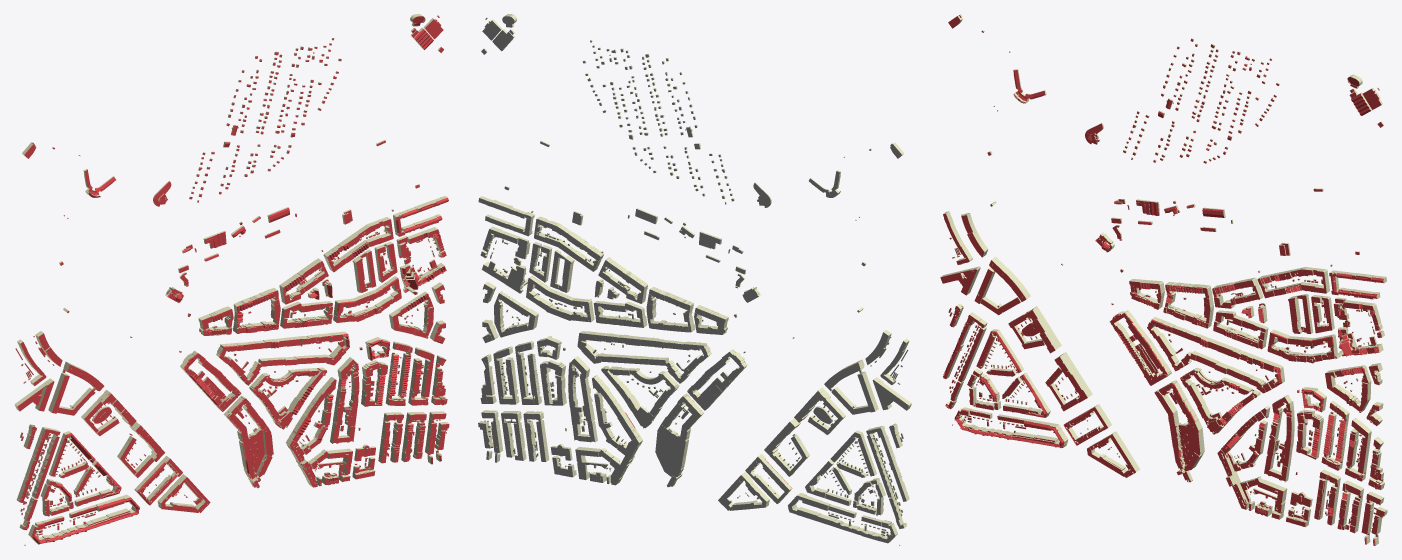
The picture shows the model from 3 angles, left to right: view 1: azimuth 30°, elevation 25°; view 2: azimuth 150°, elevation 25°; view 3: azimuth 330°, elevation 25°; orthographic projection. The views are drawn at different scales.
Visible parts, largest first — view 1: NL.IMBAG.Pand.0599100000702528-722, NL.IMBAG.Pand.0599100000750780-674, NL.IMBAG.Pand.0599100000618753-409; view 2: NL.IMBAG.Pand.0599100000702528-722, NL.IMBAG.Pand.0599100000750780-674, NL.IMBAG.Pand.0599100000618753-409; view 3: NL.IMBAG.Pand.0599100000702528-722, NL.IMBAG.Pand.0599100000750780-674, NL.IMBAG.Pand.0599100000752381-530, NL.IMBAG.Pand.0599100000759317-389, NL.IMBAG.Pand.0599100000675824-412, NL.IMBAG.Pand.0599100000618753-409.
Part boxes in pixels (box(x1,y1,x2,y2)): NL.IMBAG.Pand.0599100000702528-722: box(238, 426, 273, 480); NL.IMBAG.Pand.0599100000750780-674: box(286, 438, 317, 487); NL.IMBAG.Pand.0599100000618753-409: box(14, 378, 54, 411); NL.IMBAG.Pand.0599100000702528-722: box(655, 424, 689, 477); NL.IMBAG.Pand.0599100000750780-674: box(609, 435, 642, 485); NL.IMBAG.Pand.0599100000618753-409: box(872, 377, 911, 410); NL.IMBAG.Pand.0599100000702528-722: box(1169, 419, 1204, 473); NL.IMBAG.Pand.0599100000750780-674: box(1217, 449, 1250, 509); NL.IMBAG.Pand.0599100000752381-530: box(1054, 352, 1092, 402); NL.IMBAG.Pand.0599100000759317-389: box(1024, 306, 1061, 353); NL.IMBAG.Pand.0599100000675824-412: box(989, 256, 1030, 301); NL.IMBAG.Pand.0599100000618753-409: box(940, 266, 980, 295).
Bounding box in the file's own units: 1028 × 1025 × 44.94.
